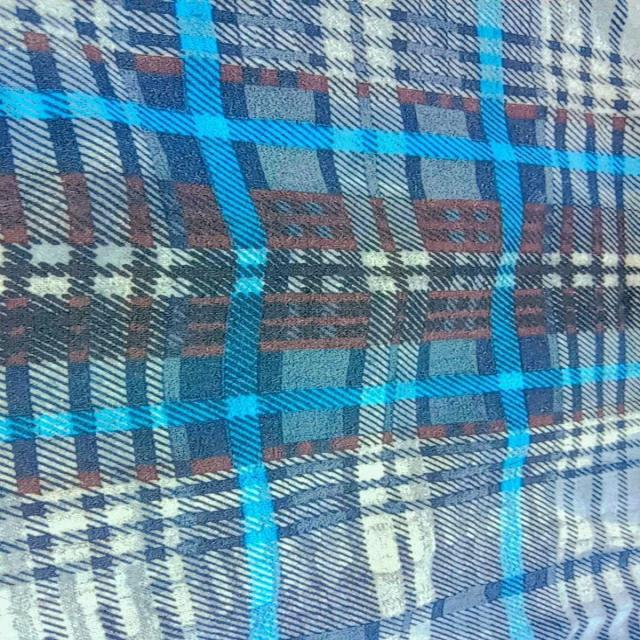baekra: (58, 10, 572, 632)
